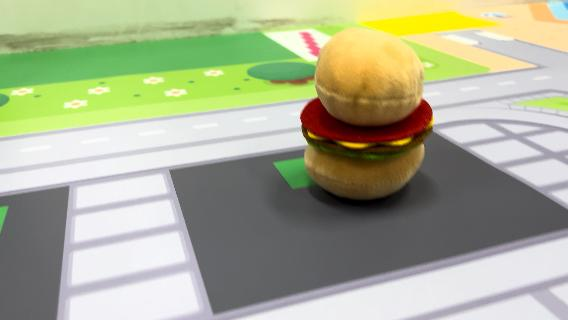burger: (296, 24, 438, 202)
